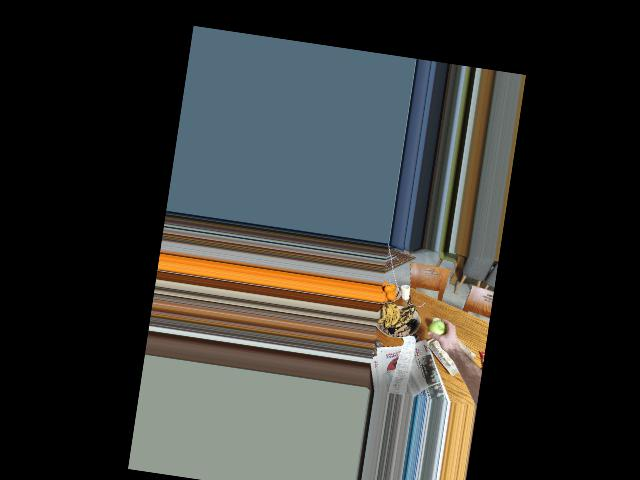apple: (426, 318, 452, 342)
